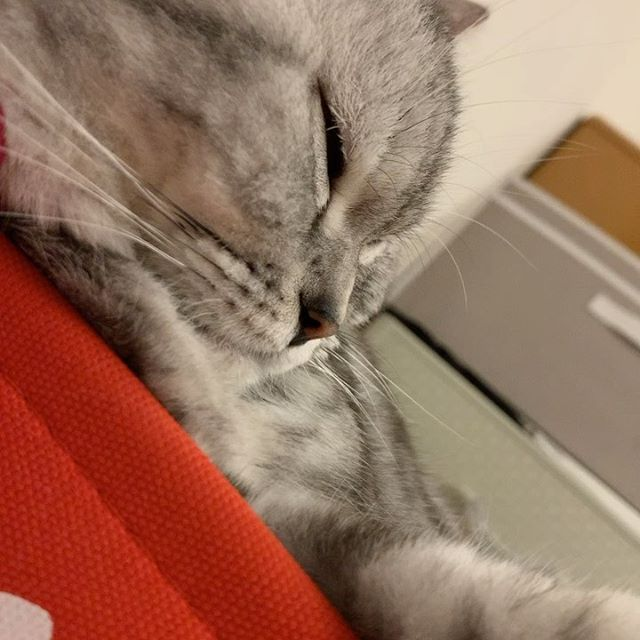cat: (86, 1, 488, 374)
